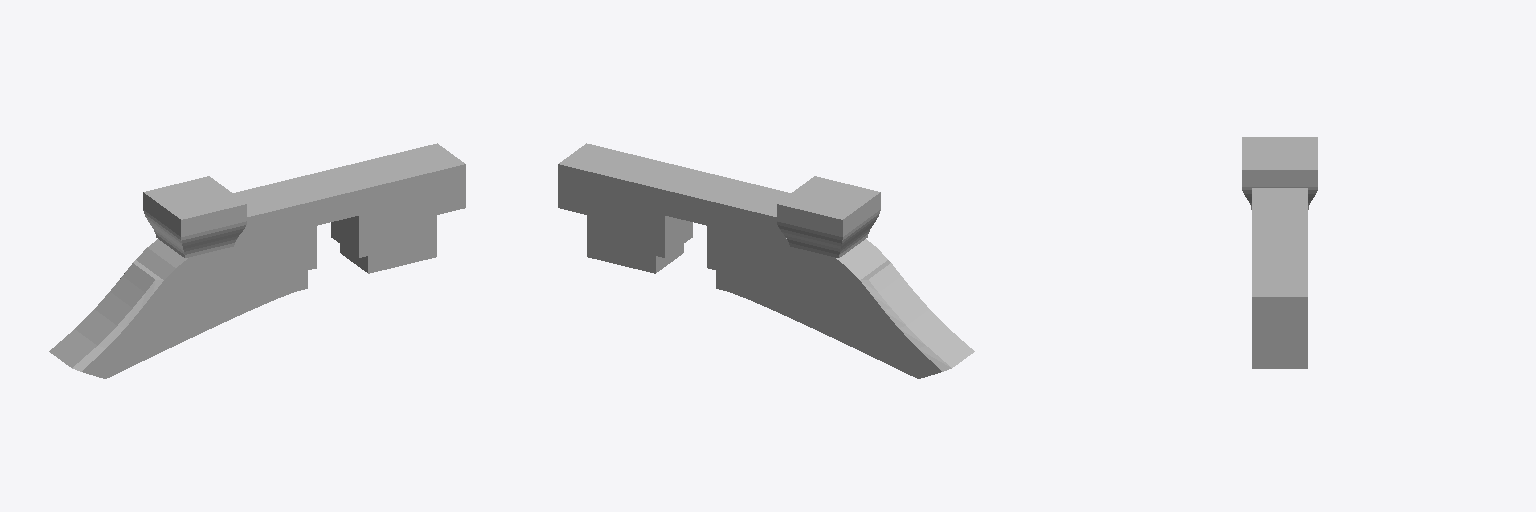
File: Ang.obj
The picture shows the model from 3 angles: view 1: azimuth 30°, elevation 25°; view 2: azimuth 150°, elevation 25°; view 3: azimuth 270°, elevation 25°; orthographic projection.
Visible parts, largest first — view 1: polySurface8651; view 2: polySurface8651; view 3: polySurface8651.
Boxes of the visible parts, <box> form: polySurface8651: <box>49,143,465,378</box>; polySurface8651: <box>558,143,974,378</box>; polySurface8651: <box>1242,137,1317,368</box>.
Bounding box in the file's own units: 0.6958 × 0.2474 × 0.1174.